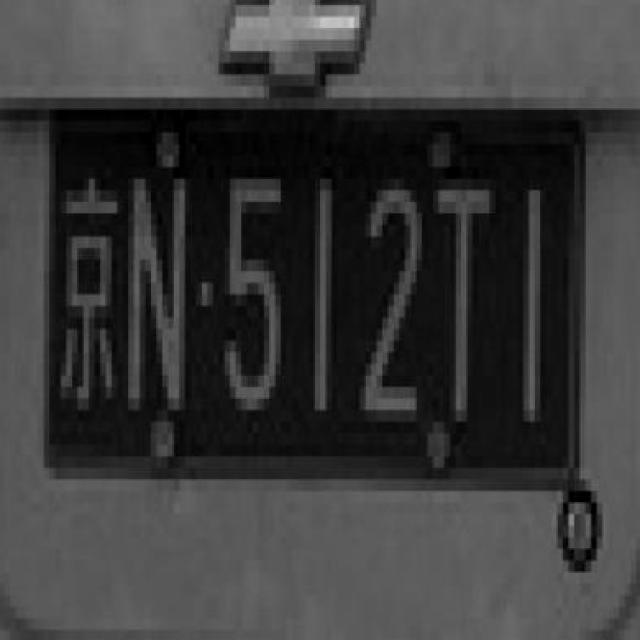licenseplate: (25, 72, 597, 517)
